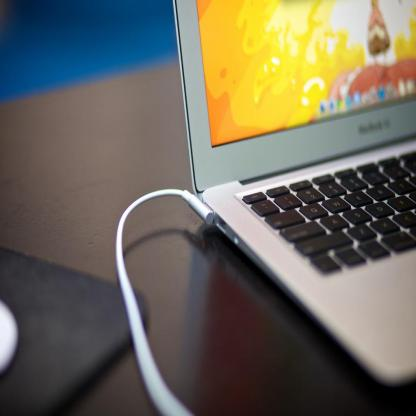board: (172, 0, 416, 389)
